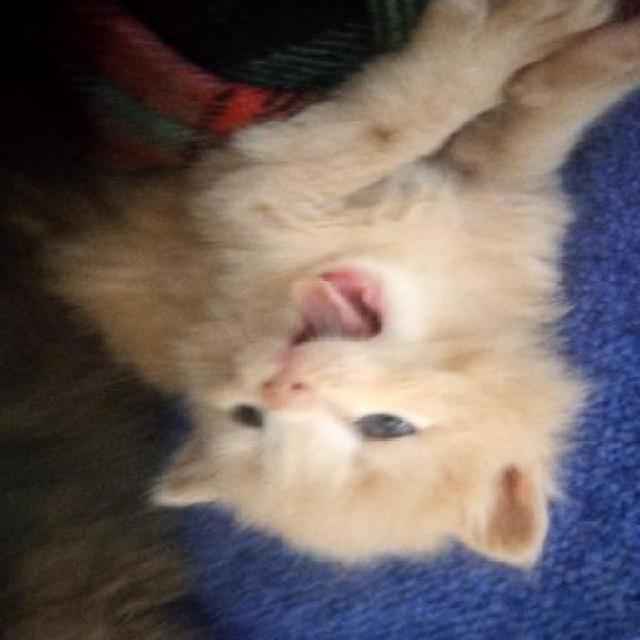cat: (124, 8, 640, 596)
